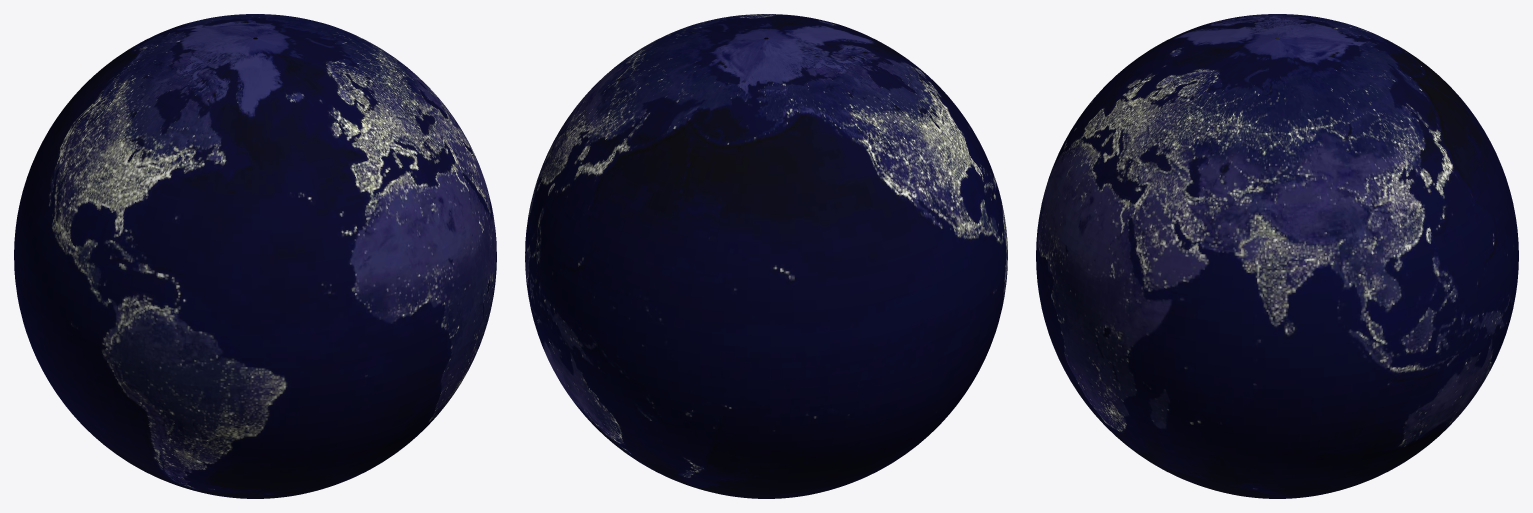
File: globe.obj
3 views of the same model, side by side, from view 1: azimuth 30°, elevation 25°; view 2: azimuth 150°, elevation 25°; view 3: azimuth 270°, elevation 25° (orthographic).
Parts seen in each view (by area): view 1: Sphere; view 2: Sphere; view 3: Sphere.
Boxes of the visible parts, x1,y1,x2,y2 form: Sphere: (14,14,496,498); Sphere: (525,14,1007,498); Sphere: (1036,14,1518,498).
Bounding box in the file's own units: 7.33 × 7.28 × 7.33.
1 material, 1 textured.
